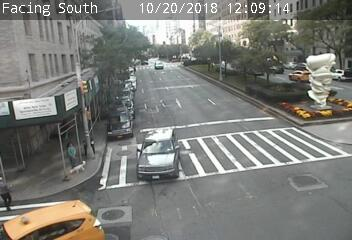carw: (138, 127, 180, 177)
